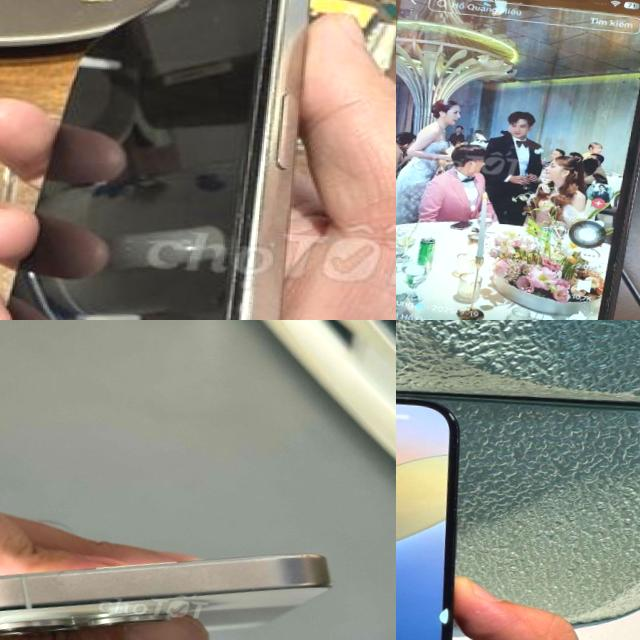gen_11: (396, 0, 640, 320)
gen_15: (0, 0, 326, 320), (0, 523, 370, 640), (396, 367, 505, 640)
scratch: (215, 0, 279, 320), (396, 379, 439, 407), (298, 552, 314, 556), (292, 576, 301, 582), (144, 572, 152, 578)
screen_defect: (423, 602, 458, 628)
